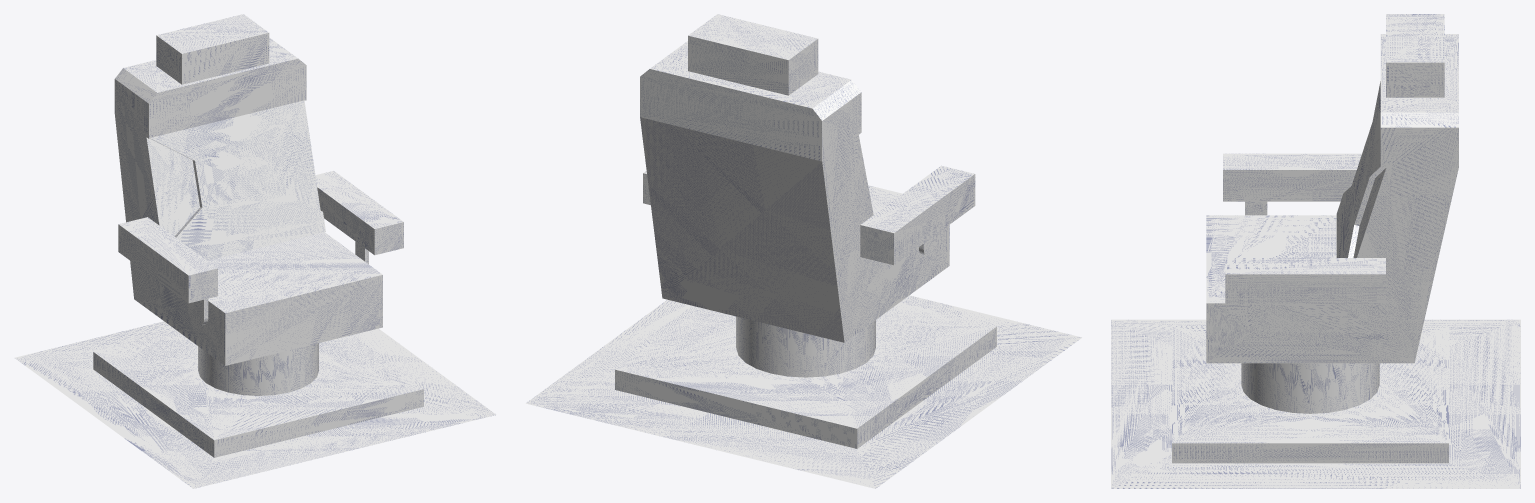
The model's file is Captain-chair.fbx.
3 views of the same model, side by side, from view 1: azimuth 30°, elevation 25°; view 2: azimuth 150°, elevation 25°; view 3: azimuth 270°, elevation 25° (orthographic). The views are drawn at different scales.
Parts seen in each view (by area): view 1: Group1; view 2: Group1; view 3: Group1.
Boxes of the visible parts, bbox=[...] form: Group1: bbox=[14, 14, 496, 488]; Group1: bbox=[526, 14, 1081, 488]; Group1: bbox=[1111, 14, 1520, 488].
Bounding box in the file's own units: 155 × 156 × 158.
